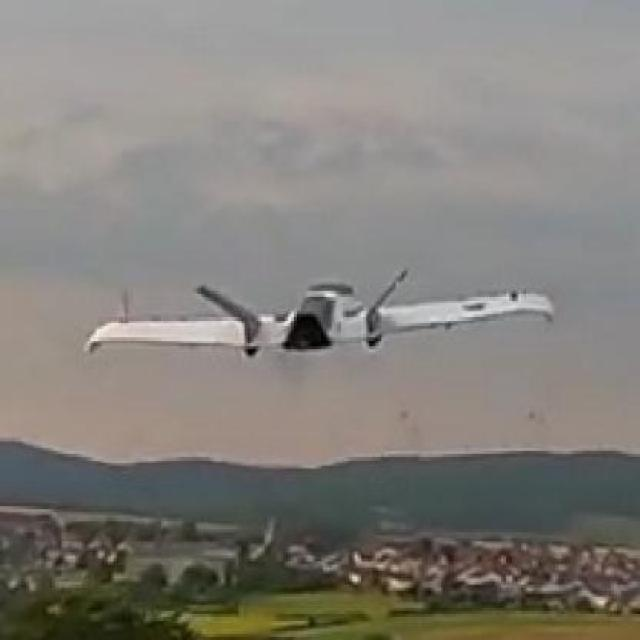iha: (81, 295, 567, 331)
